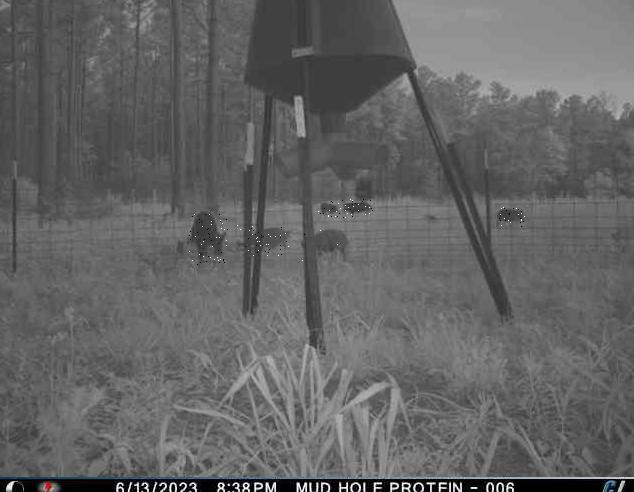Hog: (189, 212, 228, 266), (300, 225, 354, 264), (237, 225, 292, 257), (339, 199, 373, 219), (497, 208, 529, 228), (318, 201, 340, 218)
